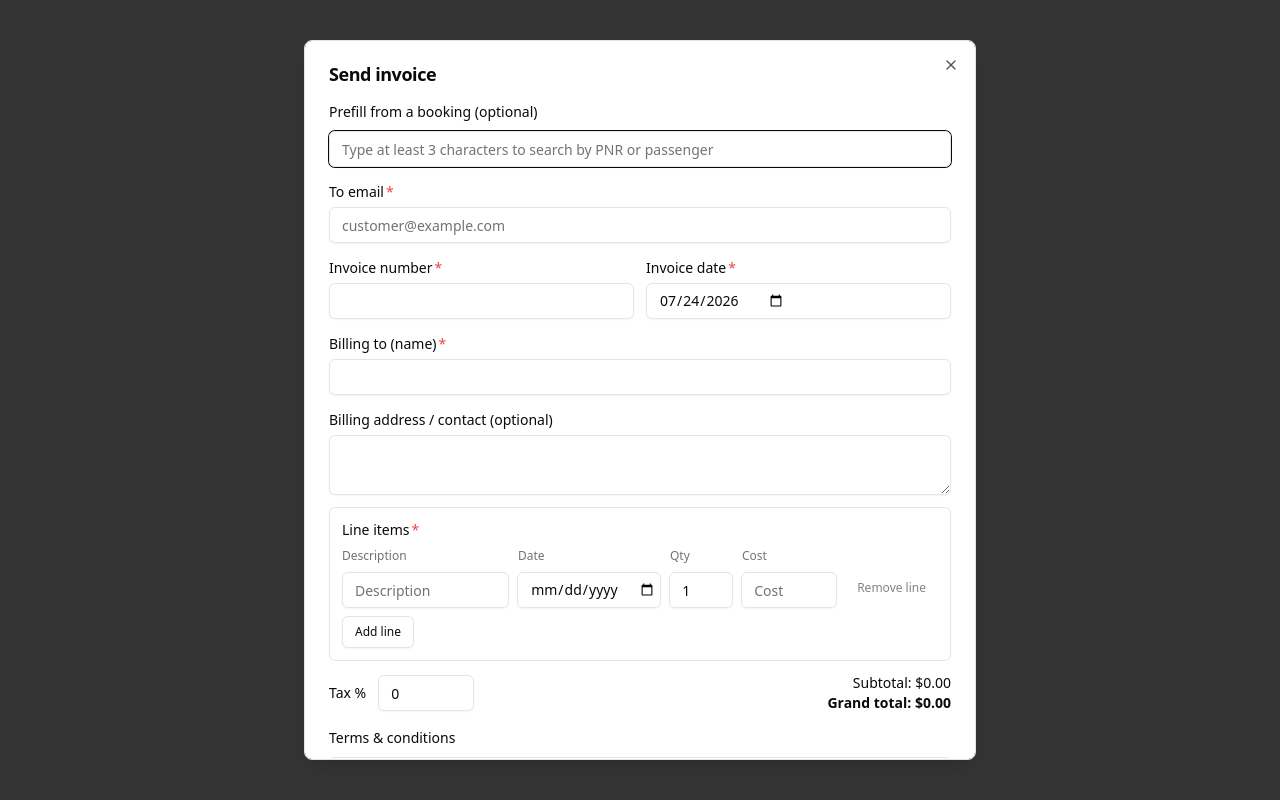
SendInvoiceDialog › adds and removes line-item rows
Type "GUD" into the field named "Search PNR" at (640, 149), box [329, 131, 951, 167]
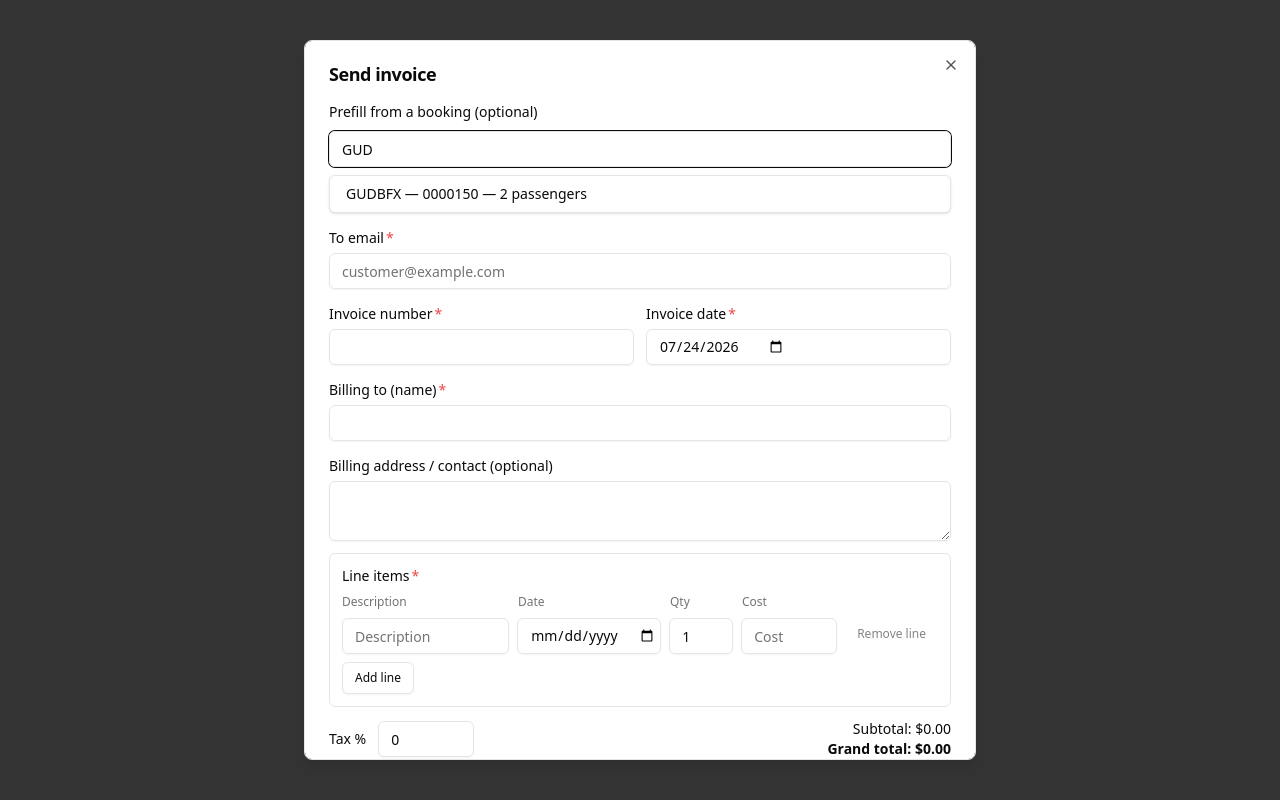
Click the button "GUDBFX — 0000150 — 2 passengers" at (374, 194), box [330, 176, 950, 212]
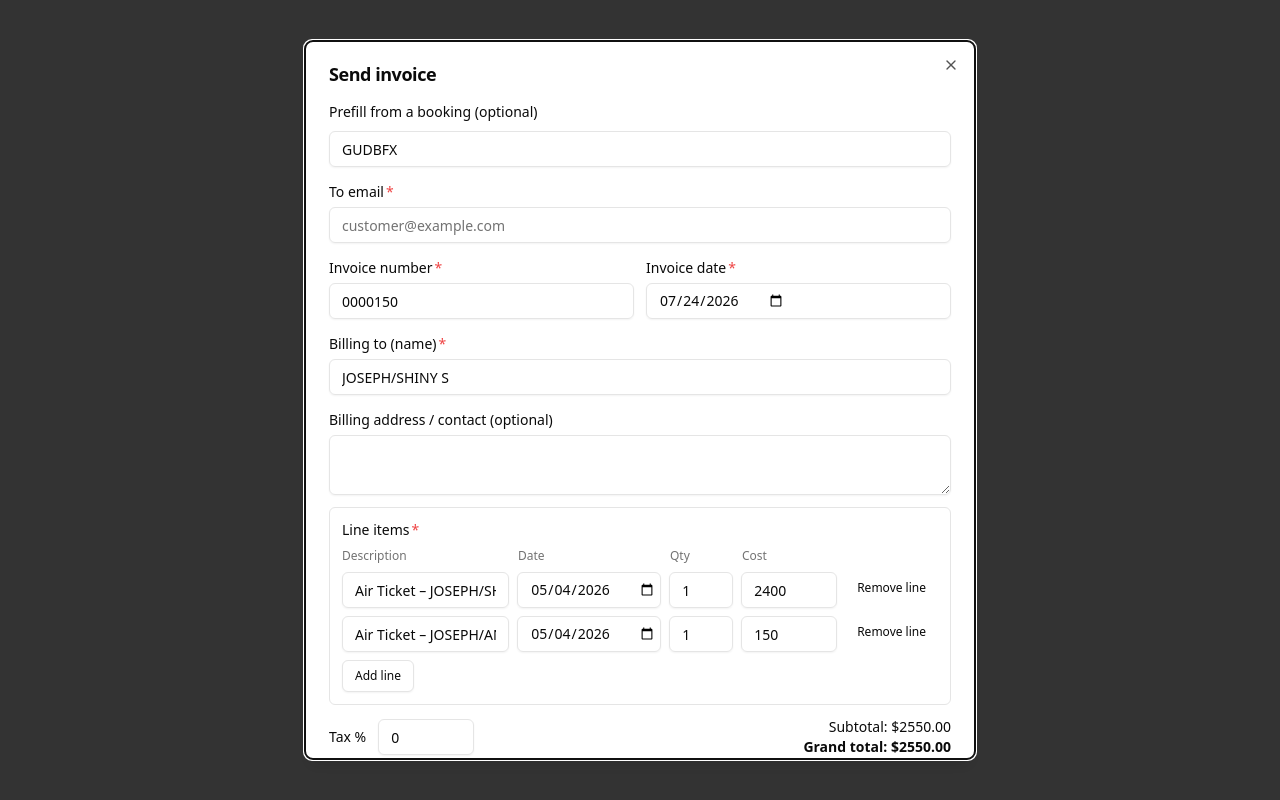
Click the button "Add line" at (378, 676), box [342, 660, 414, 692]
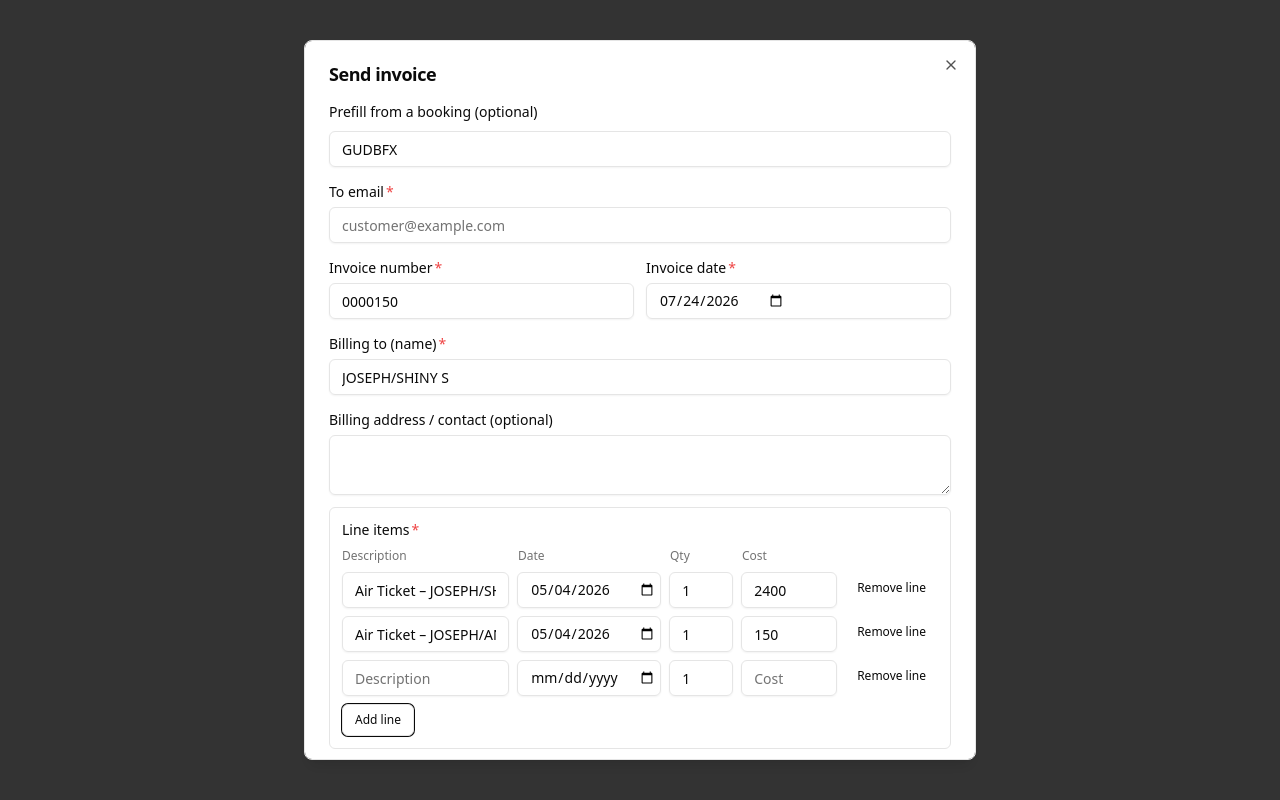
expect the number of fields named "Line description" is 3: met, box [342, 572, 509, 608]; [342, 616, 509, 652]; [342, 660, 509, 696]
Click the 3rd button "Remove line" at (892, 676), box [845, 660, 938, 692]
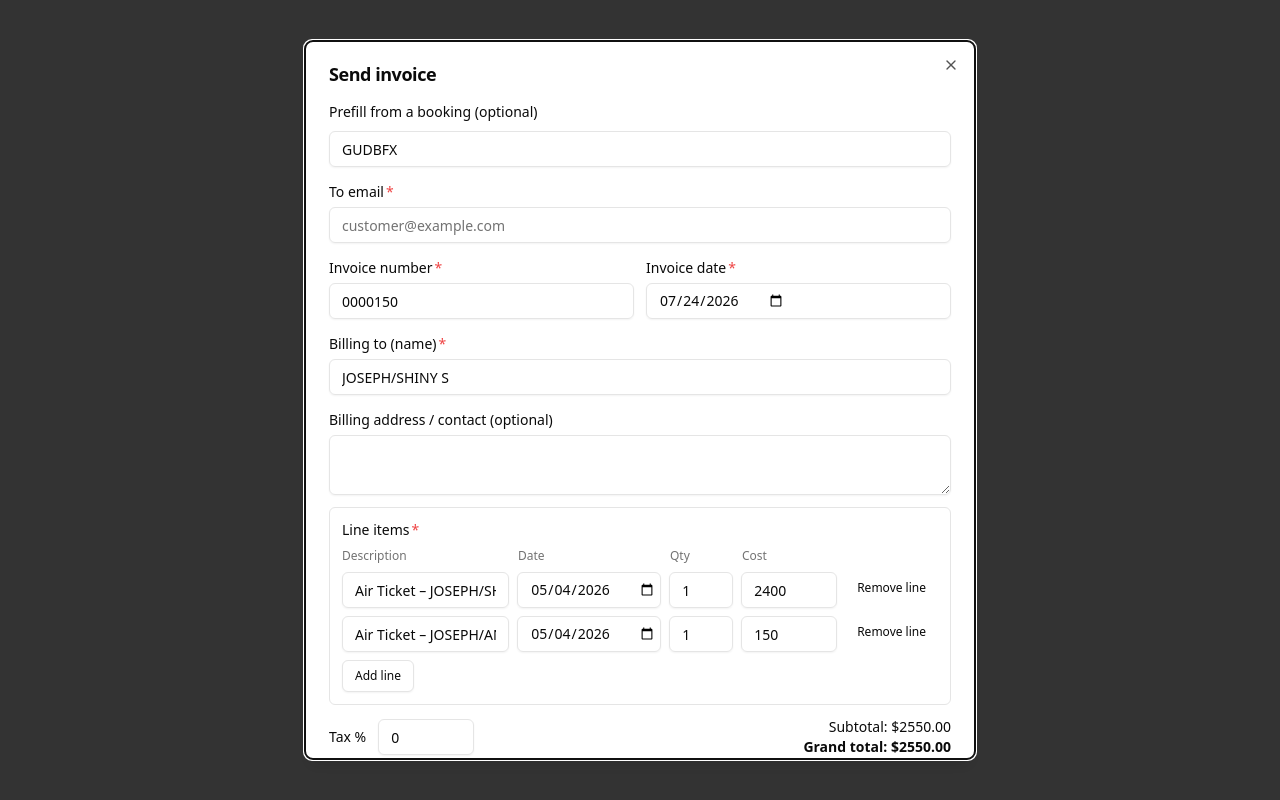
expect the number of fields named "Line description" is 2: met, box [342, 572, 509, 608]; [342, 616, 509, 652]
